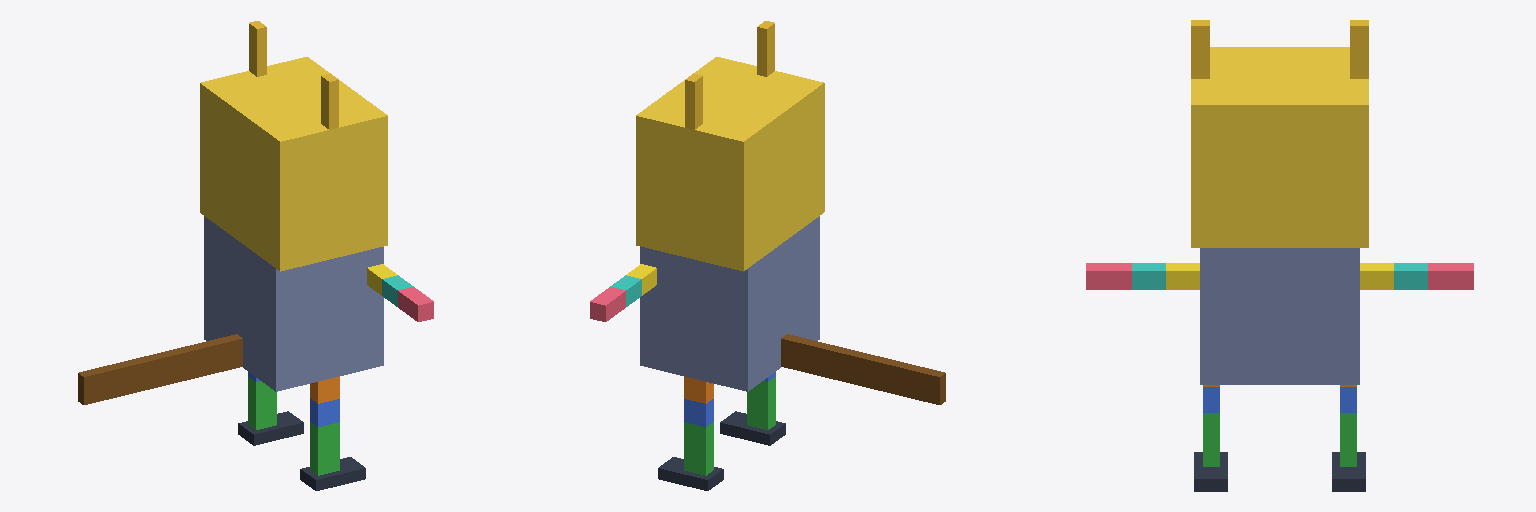
The robot description file, URDF, robot "pikachu_sample_links":
<?xml version="1.0" ?>
<!-- =================================================================================== -->
<!-- |    This document was autogenerated by xacro from pikachu_sample_links_27dof.xacro | -->
<!-- |    EDITING THIS FILE BY HAND IS NOT RECOMMENDED                                 | -->
<!-- =================================================================================== -->
<!-- ============================================================================
  Pikachu_V025 简化模型 —— 纯 box 连杆，无 mesh
  ============================================================================
  · 层级、关节原点(xyz/rpy)、旋转轴 均严格对应 urdf/Pikachu_V025.urdf
  · 每个连杆用 <box> 表示，尺寸/偏移全部参数化，改顶部参数即可整体适配骨骼
  · 单位：米 (m)

  与原始 URDF 的对应总表：
    base_link           → 躯干
    left/right_hip_pitch→hip_roll   原点沿 y (横向) 偏移 hip_pitch_to_roll_y
    left/right_hip_roll →hip_yaw    原点沿 -z 偏移 hip_roll_to_yaw_z
    left/right_hip_yaw  →knee       原点沿 -z 偏移 thigh_length   （大腿）
    left/right_knee     →ankle      原点沿 -z 偏移 shank_length   （小腿）
    left/right_arm_pitch→roll       可动(revolute)，沿 y 偏移 arm_pitch_to_roll_y
    left/right_arm_roll →yaw        可动(revolute)，沿 -z 偏移 arm_upper_z
    left/right_arm_yaw  →elbow      可动(revolute)，沿 -z 偏移 arm_lower_z
    base_link → head_pitch→yaw→roll 头部三段(3 DOF：pitch点头 / yaw转头 / roll歪头)，
                                    立在躯干顶 shoulder_height 之上
    head_roll_link → 左/右耳  ear_pitch→ear_roll（每耳 2 DOF，头顶两侧）
    base_link → 尾巴         tail_pitch→tail_yaw（2 DOF，躯干背面伸出）


    工程测量定义（零位 / T-pose，不用 box 对角线代替关节轴距）：
      M01 耳高：       base_link 原点→ear_pitch 轴的 z 差       = 0.449 (=0.166+0.283)
      M02 耳半宽：     中心 z 轴→ear_pitch 轴的 |y|             = 0.116
      M03 头轴高：     base_link 原点→head_pitch 轴的 z 差      = 0.219 (=0.166+0.053)
      M04 肩半宽：     中心 z 轴→arm_pitch/arm_roll 共点的 |y| = 0.116
      M05 手臂前向偏置：腿关节平面→肩关节平面的 x 差          = 0.083
      M06 大臂长：     arm_pitch/arm_roll 共点→elbow 轴的欧氏距离 = 0.100
      M07 小臂长：     elbow 轴→elbow_link 几何远端             = 0.066
      M08 髋半宽：     中心 z 轴→hip_roll 轴的 |y|              = 0.100
      M09 躯干长：     hip_pitch 轴→arm_pitch 轴的 z 差          = 0.166
      M10 大腿长：     hip_pitch 轴→knee 轴的 z 差               = 0.083
      M11 小腿长：     knee 轴→ankle 轴的 z 差                  = 0.086
      M12 脚长：       ankle_link 的 box x 边长                       = 0.093
      M13 尾轴高：     ankle 轴→tail_pitch 轴的 z 差             = 0.166
      M14 尾部偏置：   腿关节平面→tail box 中心的 |x|              = 0.143

    上述 14 项由 measure_* 主参数唯一驱动；tuner 按同一定义实测并做容差闭环。

    DOF 合计：腿 10 + 臂 8 + 头 3 + 耳 4 + 尾 2 = 27
    注：臂 pitch/roll/yaw/elbow 与 head 原本为 fixed，这里改成 revolute 以便驱动；
        限位由 arm_lim_* / head_lim_* 控制。
============================================================================ -->
<robot name="pikachu_sample_links">
  <!-- ============================================================ -->
  <!-- 材质定义（每段独立颜色，左右对称共用同一套）              -->
  <!-- ============================================================ -->
  <material name="torso_blue">
    <color rgba="0.55 0.60 0.75 1"/>
  </material>
  <material name="arm_pitch">
    <color rgba="0.75 0.35 1.00 1"/>
  </material>
  <material name="arm_roll">
    <color rgba="1.00 0.90 0.25 1"/>
  </material>
  <material name="arm_yaw">
    <color rgba="0.30 0.85 0.80 1"/>
  </material>
  <material name="arm_elbow">
    <color rgba="1.00 0.45 0.55 1"/>
  </material>
  <material name="leg_hip_pitch">
    <color rgba="0.90 0.35 0.80 1"/>
  </material>
  <material name="leg_hip_roll">
    <color rgba="1.00 0.60 0.20 1"/>
  </material>
  <material name="leg_hip_yaw">
    <color rgba="0.35 0.55 1.00 1"/>
  </material>
  <material name="leg_knee">
    <color rgba="0.30 0.80 0.35 1"/>
  </material>
  <material name="leg_ankle">
    <color rgba="0.25 0.28 0.35 1"/>
  </material>
  <material name="head_yellow">
    <color rgba="0.98 0.85 0.30 1"/>
  </material>
  <material name="ear_yellow">
    <color rgba="0.95 0.78 0.25 1"/>
  </material>
  <material name="tail_brown">
    <color rgba="0.55 0.38 0.18 1"/>
  </material>
  <!-- ============================================================ -->
  <!-- base_link：躯干（含 4 个与躯干相连的 base 关节）           -->
  <!-- ============================================================ -->
  
  
  <!-- mujoco compiler insert -->
  
  <mujoco>
      <compiler
      meshdir="../meshes/"
      balanceinertia="true"
      discardvisual="false"
      fusestatic="false"/>
  </mujoco>
  
      
  <link name="base_link">
    <visual>
      <origin rpy="0 0 0" xyz="0 0 0.1095"/>
      <geometry>
        <box size="0.2 0.232 0.219"/>
      </geometry>
      <material name="torso_blue"/>
    </visual>
    <collision>
      <origin rpy="0 0 0" xyz="0 0 0.1095"/>
      <geometry>
        <box size="0.2 0.232 0.219"/>
      </geometry>
    </collision>
  </link>
  <!-- ============================================================ -->
  <!-- 头部：pitch → yaw → roll 三段关节（原 head_joint 拆成 3 DOF）  -->
  <!--   三段共用 head_lim_* 限位；头大 box 挂在末端 head_roll_link -->
  <!-- ============================================================ -->
  <joint name="head_pitch_joint" type="revolute">
    <origin rpy="0 0 0" xyz="0 0 0.219"/>
    <parent link="base_link"/>
    <child link="head_pitch_link"/>
    <axis xyz="0 1 0"/>
    <limit effort="2.0" lower="-1.5708" upper="1.5708" velocity="2"/>
  </joint>
  <!-- head_pitch_link：空连杆（无 box，仅作 pitch→yaw 两级 DOF 的中继） -->
  <link name="head_pitch_link">
    <collision>
      <origin rpy="0 0 0" xyz="0 0 0"/>
      <geometry>
        <box size="0.004 0.004 0.004"/>
      </geometry>
    </collision>
  </link>
  <joint name="head_yaw_joint" type="revolute">
    <origin rpy="0 0 0" xyz="0 0 0"/>
    <parent link="head_pitch_link"/>
    <child link="head_yaw_link"/>
    <axis xyz="0 0 1"/>
    <limit effort="2.0" lower="-0.7854" upper="0.7854" velocity="2"/>
  </joint>
  <link name="head_yaw_link">
    <collision>
      <origin rpy="0 0 0" xyz="0 0 0"/>
      <geometry>
        <box size="0.004 0.004 0.004"/>
      </geometry>
    </collision>
  </link>
  <joint name="head_roll_joint" type="revolute">
    <origin rpy="0 0 0" xyz="0 0 0"/>
    <parent link="head_yaw_link"/>
    <child link="head_roll_link"/>
    <axis xyz="1 0 0"/>
    <limit effort="2.0" lower="-0.7854" upper="0.7854" velocity="2"/>
  </joint>
  <!-- head_roll_link：实心头（原 head_link 大 box，末端） -->
  <link name="head_roll_link">
    <visual>
      <origin rpy="0 0 0" xyz="0 0 0.115"/>
      <geometry>
        <box size="0.2 0.26 0.23"/>
      </geometry>
      <material name="head_yellow"/>
    </visual>
    <collision>
      <origin rpy="0 0 0" xyz="0 0 0.115"/>
      <geometry>
        <box size="0.2 0.26 0.23"/>
      </geometry>
    </collision>
  </link>
  <!-- 左耳 / 右耳 pitch：head_roll_link → 耳（roll 由 ear_links 宏生成） -->
  <joint name="left_ear_pitch_joint" type="revolute">
    <origin rpy="0 0 0" xyz="0 0.116 0.23"/>
    <parent link="head_roll_link"/>
    <child link="left_ear_pitch_link"/>
    <axis xyz="0 1 0"/>
    <limit effort="1.0" lower="-1.5708" upper="1.5708" velocity="2"/>
  </joint>
  <joint name="right_ear_pitch_joint" type="revolute">
    <origin rpy="0 0 0" xyz="0 -0.116 0.23"/>
    <parent link="head_roll_link"/>
    <child link="right_ear_pitch_link"/>
    <axis xyz="0 1 0"/>
    <limit effort="1.0" lower="-1.5708" upper="1.5708" velocity="2"/>
  </joint>
  <!-- ============================================================ -->
  <!-- 尾巴：tail_pitch → tail_yaw 两关节（躯干背面伸出）             -->
  <!-- ============================================================ -->
  <joint name="tail_pitch_joint" type="revolute">
    <origin rpy="0 0 0" xyz="-0.09549999999999999 0 -0.002999999999999975"/>
    <parent link="base_link"/>
    <child link="tail_pitch_link"/>
    <axis xyz="0 1 0"/>
    <limit effort="2.0" lower="-0.7854" upper="0.7854" velocity="2"/>
  </joint>
  <!-- tail_pitch_link：空连杆（无 box，仅作两个 DOF 的中继节点，位于尾根） -->
  <link name="tail_pitch_link">
    <collision>
      <origin rpy="0 0 0" xyz="0 0 0"/>
      <geometry>
        <box size="0.004 0.004 0.004"/>
      </geometry>
    </collision>
  </link>
  <joint name="tail_yaw_joint" type="revolute">
    <origin rpy="0 0 0" xyz="0 0 0"/>
    <parent link="tail_pitch_link"/>
    <child link="tail_yaw_link"/>
    <axis xyz="0 0 1"/>
    <limit effort="2.0" lower="-0.7854" upper="0.7854" velocity="2"/>
  </joint>
  <!-- tail_yaw_link：视觉用 STL mesh（尾造型）；碰撞仍用 box（tail_len×tail_wid×tail_thick） -->
  <link name="tail_yaw_link">
    <visual>
      <origin rpy="0.0 0.0 1.57" xyz="-0.15 0 0.03"/>
      <geometry>
        <box size="0.02 0.3 0.05"/>
      </geometry>
      <material name="tail_brown"/>
    </visual>
    <collision>
      <origin rpy="0 0 0" xyz="-0.0475 0 0"/>
      <geometry>
        <box size="0.095 0.05 0.02"/>
      </geometry>
    </collision>
  </link>
  <!-- 髋 pitch：型→left_hip_pitch_link / right_hip_pitch_link -->
  <joint name="left_hip_pitch_joint" type="revolute">
    <origin rpy="0 0 0" xyz="0 0.0645 0"/>
    <parent link="base_link"/>
    <child link="left_hip_pitch_link"/>
    <axis xyz="0 -1 0"/>
    <limit effort="12.5" lower="-2.443461" upper="2.443461" velocity="2"/>
  </joint>
  <joint name="right_hip_pitch_joint" type="revolute">
    <origin rpy="0 0 0" xyz="0 -0.0645 0"/>
    <parent link="base_link"/>
    <child link="right_hip_pitch_link"/>
    <axis xyz="0 -1 0"/>
    <limit effort="12.5" lower="-2.443461" upper="2.443461" velocity="2"/>
  </joint>
  <!-- 臂 pitch：型→left/right_arm_pitch_link（固定，抬升 shoulder_height） -->
  <joint name="left_arm_pitch_joint" type="revolute">
    <origin rpy="0 0 0" xyz="0.083 0.116 0.166"/>
    <parent link="base_link"/>
    <child link="left_arm_pitch_link"/>
    <axis xyz="0 1 0"/>
    <limit effort="2.0" lower="-1.5708" upper="3.1416" velocity="2"/>
  </joint>
  <joint name="right_arm_pitch_joint" type="revolute">
    <origin rpy="0 0 0" xyz="0.083 -0.116 0.166"/>
    <parent link="base_link"/>
    <child link="right_arm_pitch_link"/>
    <axis xyz="0 -1 0"/>
    <limit effort="2.0" lower="-1.5708" upper="3.1416" velocity="2"/>
  </joint>
  <!-- hip_pitch_link：覆盖到 roll 的横向(y)段 -->
  <link name="left_hip_pitch_link">
    <visual>
      <origin rpy="0 0 0" xyz="0 0.01775 0"/>
      <geometry>
        <box size="0.04 0.0355 0.025"/>
      </geometry>
      <material name="leg_hip_pitch"/>
    </visual>
    <collision>
      <origin rpy="0 0 0" xyz="0 0.01775 0"/>
      <geometry>
        <box size="0.04 0.0355 0.025"/>
      </geometry>
    </collision>
  </link>
  <joint name="left_hip_roll_joint" type="revolute">
    <origin rpy="0 0 0" xyz="0 0.0355 0"/>
    <parent link="left_hip_pitch_link"/>
    <child link="left_hip_roll_link"/>
    <axis xyz="1 0 0"/>
    <limit effort="9.0" lower="-0.2618" upper="0.2618" velocity="1"/>
  </joint>
  <!-- hip_roll_link：覆盖到 yaw 的 -z 骨盆段 -->
  <link name="left_hip_roll_link">
    <visual>
      <origin rpy="0 0 0" xyz="0 0 -0.02075"/>
      <geometry>
        <box size="0.04 0.025 0.0415"/>
      </geometry>
      <material name="leg_hip_roll"/>
    </visual>
    <collision>
      <origin rpy="0 0 0" xyz="0 0 -0.02075"/>
      <geometry>
        <box size="0.04 0.025 0.0415"/>
      </geometry>
    </collision>
  </link>
  <joint name="left_hip_yaw_joint" type="revolute">
    <origin rpy="0 0 0" xyz="0 0 -0.0415"/>
    <parent link="left_hip_roll_link"/>
    <child link="left_hip_yaw_link"/>
    <axis xyz="0 0 1"/>
    <limit effort="9.0" lower="-0.2618" upper="0.2618" velocity="1"/>
  </joint>
  <!-- hip_yaw_link：大腿段（thigh_length） -->
  <link name="left_hip_yaw_link">
    <visual>
      <origin rpy="0 0 0" xyz="0 0 -0.02075"/>
      <geometry>
        <box size="0.04 0.025 0.0415"/>
      </geometry>
      <material name="leg_hip_yaw"/>
    </visual>
    <collision>
      <origin rpy="0 0 0" xyz="0 0 -0.02075"/>
      <geometry>
        <box size="0.04 0.025 0.0415"/>
      </geometry>
    </collision>
  </link>
  <joint name="left_knee_joint" type="revolute">
    <origin rpy="0 0 0" xyz="0 0 -0.0415"/>
    <parent link="left_hip_yaw_link"/>
    <child link="left_knee_link"/>
    <axis xyz="0 1 0"/>
    <limit effort="12.5" lower="0.0000" upper="1.5708" velocity="3"/>
  </joint>
  <!-- knee_link：小腿段（shank_length） -->
  <link name="left_knee_link">
    <visual>
      <origin rpy="0 0 0" xyz="0 0 -0.043"/>
      <geometry>
        <box size="0.04 0.025 0.086"/>
      </geometry>
      <material name="leg_knee"/>
    </visual>
    <collision>
      <origin rpy="0 0 0" xyz="0 0 -0.043"/>
      <geometry>
        <box size="0.04 0.025 0.086"/>
      </geometry>
    </collision>
  </link>
  <joint name="left_ankle_joint" type="revolute">
    <origin rpy="0 0 0" xyz="0 0 -0.086"/>
    <parent link="left_knee_link"/>
    <child link="left_ankle_link"/>
    <axis xyz="0 -1 0"/>
    <limit effort="9.0" lower="-1.0472" upper="1.0472" velocity="2"/>
  </joint>
  <!-- ankle_link：脚掌（末端） -->
  <link name="left_ankle_link">
    <visual>
      <origin rpy="0 0 0" xyz="0.0155 0 -0.01"/>
      <geometry>
        <box size="0.093 0.05 0.02"/>
      </geometry>
      <material name="leg_ankle"/>
    </visual>
    <collision>
      <origin rpy="0 0 0" xyz="0.0155 0 -0.01"/>
      <geometry>
        <box size="0.093 0.05 0.02"/>
      </geometry>
    </collision>
  </link>
  <!-- hip_pitch_link：覆盖到 roll 的横向(y)段 -->
  <link name="right_hip_pitch_link">
    <visual>
      <origin rpy="0 0 0" xyz="0 -0.01775 0"/>
      <geometry>
        <box size="0.04 0.0355 0.025"/>
      </geometry>
      <material name="leg_hip_pitch"/>
    </visual>
    <collision>
      <origin rpy="0 0 0" xyz="0 -0.01775 0"/>
      <geometry>
        <box size="0.04 0.0355 0.025"/>
      </geometry>
    </collision>
  </link>
  <joint name="right_hip_roll_joint" type="revolute">
    <origin rpy="0 0 0" xyz="0 -0.0355 0"/>
    <parent link="right_hip_pitch_link"/>
    <child link="right_hip_roll_link"/>
    <axis xyz="-1 0 0"/>
    <limit effort="9.0" lower="-0.2618" upper="0.2618" velocity="1"/>
  </joint>
  <!-- hip_roll_link：覆盖到 yaw 的 -z 骨盆段 -->
  <link name="right_hip_roll_link">
    <visual>
      <origin rpy="0 0 0" xyz="0 0 -0.02075"/>
      <geometry>
        <box size="0.04 0.025 0.0415"/>
      </geometry>
      <material name="leg_hip_roll"/>
    </visual>
    <collision>
      <origin rpy="0 0 0" xyz="0 0 -0.02075"/>
      <geometry>
        <box size="0.04 0.025 0.0415"/>
      </geometry>
    </collision>
  </link>
  <joint name="right_hip_yaw_joint" type="revolute">
    <origin rpy="0 0 0" xyz="0 0 -0.0415"/>
    <parent link="right_hip_roll_link"/>
    <child link="right_hip_yaw_link"/>
    <axis xyz="0 0 -1"/>
    <limit effort="9.0" lower="-0.2618" upper="0.2618" velocity="1"/>
  </joint>
  <!-- hip_yaw_link：大腿段（thigh_length） -->
  <link name="right_hip_yaw_link">
    <visual>
      <origin rpy="0 0 0" xyz="0 0 -0.02075"/>
      <geometry>
        <box size="0.04 0.025 0.0415"/>
      </geometry>
      <material name="leg_hip_yaw"/>
    </visual>
    <collision>
      <origin rpy="0 0 0" xyz="0 0 -0.02075"/>
      <geometry>
        <box size="0.04 0.025 0.0415"/>
      </geometry>
    </collision>
  </link>
  <joint name="right_knee_joint" type="revolute">
    <origin rpy="0 0 0" xyz="0 0 -0.0415"/>
    <parent link="right_hip_yaw_link"/>
    <child link="right_knee_link"/>
    <axis xyz="0 1 0"/>
    <limit effort="12.5" lower="0.0000" upper="1.5708" velocity="3"/>
  </joint>
  <!-- knee_link：小腿段（shank_length） -->
  <link name="right_knee_link">
    <visual>
      <origin rpy="0 0 0" xyz="0 0 -0.043"/>
      <geometry>
        <box size="0.04 0.025 0.086"/>
      </geometry>
      <material name="leg_knee"/>
    </visual>
    <collision>
      <origin rpy="0 0 0" xyz="0 0 -0.043"/>
      <geometry>
        <box size="0.04 0.025 0.086"/>
      </geometry>
    </collision>
  </link>
  <joint name="right_ankle_joint" type="revolute">
    <origin rpy="0 0 0" xyz="0 0 -0.086"/>
    <parent link="right_knee_link"/>
    <child link="right_ankle_link"/>
    <axis xyz="0 -1 0"/>
    <limit effort="9.0" lower="-1.0472" upper="1.0472" velocity="2"/>
  </joint>
  <!-- ankle_link：脚掌（末端） -->
  <link name="right_ankle_link">
    <visual>
      <origin rpy="0 0 0" xyz="0.0155 0 -0.01"/>
      <geometry>
        <box size="0.093 0.05 0.02"/>
      </geometry>
      <material name="leg_ankle"/>
    </visual>
    <collision>
      <origin rpy="0 0 0" xyz="0.0155 0 -0.01"/>
      <geometry>
        <box size="0.093 0.05 0.02"/>
      </geometry>
    </collision>
  </link>
  <!-- arm_pitch_link：pitch/roll 共点的关节标记 -->
  <link name="left_arm_pitch_link">
    <visual>
      <origin rpy="0 0 0" xyz="0 0.0 0"/>
      <geometry>
        <box size="0.004 0.004 0.004"/>
      </geometry>
      <material name="arm_pitch"/>
    </visual>
    <collision>
      <origin rpy="0 0 0" xyz="0 0.0 0"/>
      <geometry>
        <box size="0.004 0.004 0.004"/>
      </geometry>
    </collision>
  </link>
  <joint name="left_arm_roll_joint" type="revolute">
    <!-- pitch/roll 轴严格共点；rpy ±90° 使零位大臂沿 ±y 水平外展 -->
    <origin rpy="1.5707963267948966 0 0" xyz="0 0 0"/>
    <parent link="left_arm_pitch_link"/>
    <child link="left_arm_roll_link"/>
    <axis xyz="1 0 0"/>
    <limit effort="2.0" lower="0.0000" upper="1.5708" velocity="2"/>
  </joint>
  <!-- arm_roll_link：上臂段（arm_upper_z） -->
  <link name="left_arm_roll_link">
    <visual>
      <origin rpy="0 0 0" xyz="0 0 -0.025"/>
      <geometry>
        <box size="0.03 0.03 0.05"/>
      </geometry>
      <material name="arm_roll"/>
    </visual>
    <collision>
      <origin rpy="0 0 0" xyz="0 0 -0.025"/>
      <geometry>
        <box size="0.03 0.03 0.05"/>
      </geometry>
    </collision>
  </link>
  <joint name="left_arm_yaw_joint" type="revolute">
    <origin rpy="0 0 0" xyz="0 0 -0.05"/>
    <parent link="left_arm_roll_link"/>
    <child link="left_arm_yaw_link"/>
    <axis xyz="0 0 -1"/>
    <limit effort="2.0" lower="-1.5708" upper="1.5708" velocity="2"/>
  </joint>
  <!-- arm_yaw_link：下臂段（arm_lower_z） -->
  <link name="left_arm_yaw_link">
    <visual>
      <origin rpy="0 0 0" xyz="0 0 -0.025"/>
      <geometry>
        <box size="0.03 0.03 0.05"/>
      </geometry>
      <material name="arm_yaw"/>
    </visual>
    <collision>
      <origin rpy="0 0 0" xyz="0 0 -0.025"/>
      <geometry>
        <box size="0.03 0.03 0.05"/>
      </geometry>
    </collision>
  </link>
  <joint name="left_elbow_joint" type="revolute">
    <!-- rpy 清零：去除原折弯，默认手与前臂连成直线（展开） -->
    <origin rpy="0 0 0" xyz="0 0 -0.05"/>
    <parent link="left_arm_yaw_link"/>
    <child link="left_elbow_link"/>
    <axis xyz="0 1 0"/>
    <limit effort="2.0" lower="0.0000" upper="1.5708" velocity="2"/>
  </joint>
  <!-- elbow_link：手（末端） -->
  <link name="left_elbow_link">
    <visual>
      <origin rpy="0 0 0" xyz="0 0 -0.033"/>
      <geometry>
        <box size="0.03 0.03 0.066"/>
      </geometry>
      <material name="arm_elbow"/>
    </visual>
    <collision>
      <origin rpy="0 0 0" xyz="0 0 -0.033"/>
      <geometry>
        <box size="0.03 0.03 0.066"/>
      </geometry>
    </collision>
  </link>
  <!-- arm_pitch_link：pitch/roll 共点的关节标记 -->
  <link name="right_arm_pitch_link">
    <visual>
      <origin rpy="0 0 0" xyz="0 -0.0 0"/>
      <geometry>
        <box size="0.004 0.004 0.004"/>
      </geometry>
      <material name="arm_pitch"/>
    </visual>
    <collision>
      <origin rpy="0 0 0" xyz="0 -0.0 0"/>
      <geometry>
        <box size="0.004 0.004 0.004"/>
      </geometry>
    </collision>
  </link>
  <joint name="right_arm_roll_joint" type="revolute">
    <!-- pitch/roll 轴严格共点；rpy ±90° 使零位大臂沿 ±y 水平外展 -->
    <origin rpy="-1.5707963267948966 0 0" xyz="0 0 0"/>
    <parent link="right_arm_pitch_link"/>
    <child link="right_arm_roll_link"/>
    <axis xyz="-1 0 0"/>
    <limit effort="2.0" lower="0.0000" upper="1.5708" velocity="2"/>
  </joint>
  <!-- arm_roll_link：上臂段（arm_upper_z） -->
  <link name="right_arm_roll_link">
    <visual>
      <origin rpy="0 0 0" xyz="0 0 -0.025"/>
      <geometry>
        <box size="0.03 0.03 0.05"/>
      </geometry>
      <material name="arm_roll"/>
    </visual>
    <collision>
      <origin rpy="0 0 0" xyz="0 0 -0.025"/>
      <geometry>
        <box size="0.03 0.03 0.05"/>
      </geometry>
    </collision>
  </link>
  <joint name="right_arm_yaw_joint" type="revolute">
    <origin rpy="0 0 0" xyz="0 0 -0.05"/>
    <parent link="right_arm_roll_link"/>
    <child link="right_arm_yaw_link"/>
    <axis xyz="0 0 -1"/>
    <limit effort="2.0" lower="-1.5708" upper="1.5708" velocity="2"/>
  </joint>
  <!-- arm_yaw_link：下臂段（arm_lower_z） -->
  <link name="right_arm_yaw_link">
    <visual>
      <origin rpy="0 0 0" xyz="0 0 -0.025"/>
      <geometry>
        <box size="0.03 0.03 0.05"/>
      </geometry>
      <material name="arm_yaw"/>
    </visual>
    <collision>
      <origin rpy="0 0 0" xyz="0 0 -0.025"/>
      <geometry>
        <box size="0.03 0.03 0.05"/>
      </geometry>
    </collision>
  </link>
  <joint name="right_elbow_joint" type="revolute">
    <!-- rpy 清零：去除原折弯，默认手与前臂连成直线（展开） -->
    <origin rpy="0 0 0" xyz="0 0 -0.05"/>
    <parent link="right_arm_yaw_link"/>
    <child link="right_elbow_link"/>
    <axis xyz="0 1 0"/>
    <limit effort="2.0" lower="0.0000" upper="1.5708" velocity="2"/>
  </joint>
  <!-- elbow_link：手（末端） -->
  <link name="right_elbow_link">
    <visual>
      <origin rpy="0 0 0" xyz="0 0 -0.033"/>
      <geometry>
        <box size="0.03 0.03 0.066"/>
      </geometry>
      <material name="arm_elbow"/>
    </visual>
    <collision>
      <origin rpy="0 0 0" xyz="0 0 -0.033"/>
      <geometry>
        <box size="0.03 0.03 0.066"/>
      </geometry>
    </collision>
  </link>
  <!-- ear_pitch_link：空连杆（无 box，仅作两个 DOF 的中继节点，位于耳根） -->
  <link name="left_ear_pitch_link">
    <collision>
      <origin rpy="0 0 0" xyz="0 0 0"/>
      <geometry>
        <box size="0.004 0.004 0.004"/>
      </geometry>
    </collision>
  </link>
  <joint name="left_ear_roll_joint" type="revolute">
    <origin rpy="0 0 0" xyz="0 0 0"/>
    <parent link="left_ear_pitch_link"/>
    <child link="left_ear_roll_link"/>
    <!-- 轴改 x：真正绕前后横轴 roll（耳朵左右倒伏/张开）；原 0 0 z 是 yaw -->
    <axis xyz="1 0 0"/>
    <limit effort="1.0" lower="-0.7854" upper="0.7854" velocity="2"/>
  </joint>
  <!-- ear_roll_link：耳朵唯一 box，长度=耳全长 ear_len，从头顶竖直伸出 -->
  <link name="left_ear_roll_link">
    <visual>
      <origin rpy="0 0 0" xyz="0 0 0.0425"/>
      <geometry>
        <box size="0.018 0.028 0.085"/>
      </geometry>
      <material name="ear_yellow"/>
    </visual>
    <collision>
      <origin rpy="0 0 0" xyz="0 0 0.0425"/>
      <geometry>
        <box size="0.018 0.028 0.085"/>
      </geometry>
    </collision>
  </link>
  <!-- ear_pitch_link：空连杆（无 box，仅作两个 DOF 的中继节点，位于耳根） -->
  <link name="right_ear_pitch_link">
    <collision>
      <origin rpy="0 0 0" xyz="0 0 0"/>
      <geometry>
        <box size="0.004 0.004 0.004"/>
      </geometry>
    </collision>
  </link>
  <joint name="right_ear_roll_joint" type="revolute">
    <origin rpy="0 0 0" xyz="0 0 0"/>
    <parent link="right_ear_pitch_link"/>
    <child link="right_ear_roll_link"/>
    <!-- 轴改 x：真正绕前后横轴 roll（耳朵左右倒伏/张开）；原 0 0 z 是 yaw -->
    <axis xyz="1 0 0"/>
    <limit effort="1.0" lower="-0.7854" upper="0.7854" velocity="2"/>
  </joint>
  <!-- ear_roll_link：耳朵唯一 box，长度=耳全长 ear_len，从头顶竖直伸出 -->
  <link name="right_ear_roll_link">
    <visual>
      <origin rpy="0 0 0" xyz="0 0 0.0425"/>
      <geometry>
        <box size="0.018 0.028 0.085"/>
      </geometry>
      <material name="ear_yellow"/>
    </visual>
    <collision>
      <origin rpy="0 0 0" xyz="0 0 0.0425"/>
      <geometry>
        <box size="0.018 0.028 0.085"/>
      </geometry>
    </collision>
  </link>
</robot>

--- Render facts (derived) ---
3 views of the same robot in one strip: view 1: azimuth 30°, elevation 25°; view 2: azimuth 150°, elevation 25°; view 3: azimuth 270°, elevation 25° (orthographic).
Robot: pikachu_sample_links — 28 links, 27 joints (27 revolute); root link base_link; default pose: all joints at 0.
Links seen in each view (by area): view 1: head_roll_link, base_link, tail_yaw_link, right_knee_link, left_knee_link, left_ankle_link, right_ankle_link, right_ear_roll_link, left_ear_roll_link, right_elbow_link, right_hip_yaw_link, right_hip_roll_link; view 2: head_roll_link, base_link, tail_yaw_link, left_knee_link, right_knee_link, right_ankle_link, left_ankle_link, left_ear_roll_link, right_ear_roll_link, left_elbow_link, left_hip_yaw_link, left_hip_roll_link; view 3: head_roll_link, base_link, left_elbow_link, right_elbow_link, left_ear_roll_link, right_ear_roll_link, left_ankle_link, right_ankle_link, left_knee_link, right_knee_link, left_arm_roll_link, left_arm_yaw_link (+2 smaller).
Boxes of the visible links, <box> form: head_roll_link: <box>200,57,387,271</box>; base_link: <box>204,216,383,391</box>; tail_yaw_link: <box>78,334,242,404</box>; right_knee_link: <box>310,422,339,475</box>; left_knee_link: <box>248,377,276,429</box>; left_ankle_link: <box>238,411,303,445</box>; right_ankle_link: <box>300,457,365,490</box>; right_ear_roll_link: <box>321,73,338,129</box>; left_ear_roll_link: <box>249,21,266,76</box>; right_elbow_link: <box>398,287,433,321</box>; right_hip_yaw_link: <box>310,398,339,426</box>; right_hip_roll_link: <box>310,376,339,403</box>; head_roll_link: <box>636,57,824,271</box>; base_link: <box>640,216,819,391</box>; tail_yaw_link: <box>781,334,945,404</box>; left_knee_link: <box>684,422,713,475</box>; right_knee_link: <box>747,377,775,429</box>; right_ankle_link: <box>720,411,785,445</box>; left_ankle_link: <box>658,457,723,490</box>; left_ear_roll_link: <box>685,73,702,129</box>; right_ear_roll_link: <box>757,21,774,76</box>; left_elbow_link: <box>590,287,625,321</box>; left_hip_yaw_link: <box>684,399,713,426</box>; left_hip_roll_link: <box>684,376,713,403</box>; head_roll_link: <box>1191,47,1368,247</box>; base_link: <box>1200,248,1359,384</box>; left_elbow_link: <box>1428,263,1473,289</box>; right_elbow_link: <box>1086,263,1131,289</box>; left_ear_roll_link: <box>1350,20,1368,78</box>; right_ear_roll_link: <box>1191,20,1209,78</box>; left_ankle_link: <box>1332,452,1365,491</box>; right_ankle_link: <box>1194,452,1227,491</box>; left_knee_link: <box>1340,413,1356,466</box>; right_knee_link: <box>1203,413,1219,466</box>; left_arm_roll_link: <box>1360,263,1393,289</box>; left_arm_yaw_link: <box>1394,263,1427,289</box>.
Size in the robot's own frame: 0.4955 by 0.564 by 0.723 metres.
Geometry: primitives only (box / cylinder / sphere), no mesh files.
